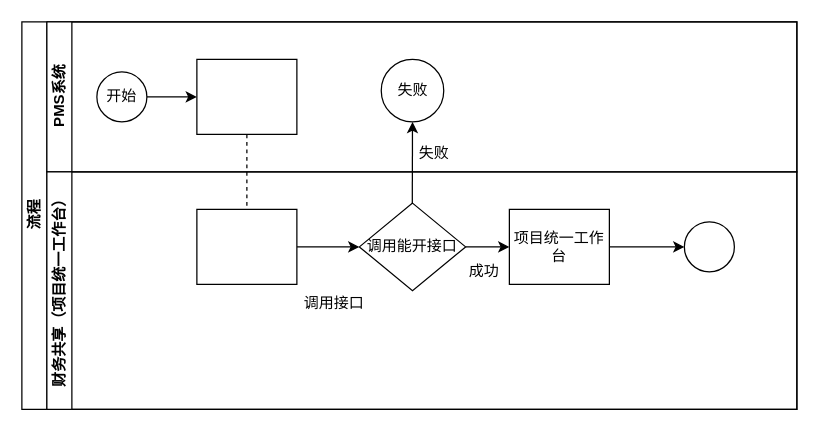
Some shapes in this 819 by 431 pixel diagram are drawn without their labels. Each missing label, with the centre of its shape:
完成: point 708,246
点击PMS系统的项目工作台链接: point 246,96
进入项目工作台验证: point 246,246
